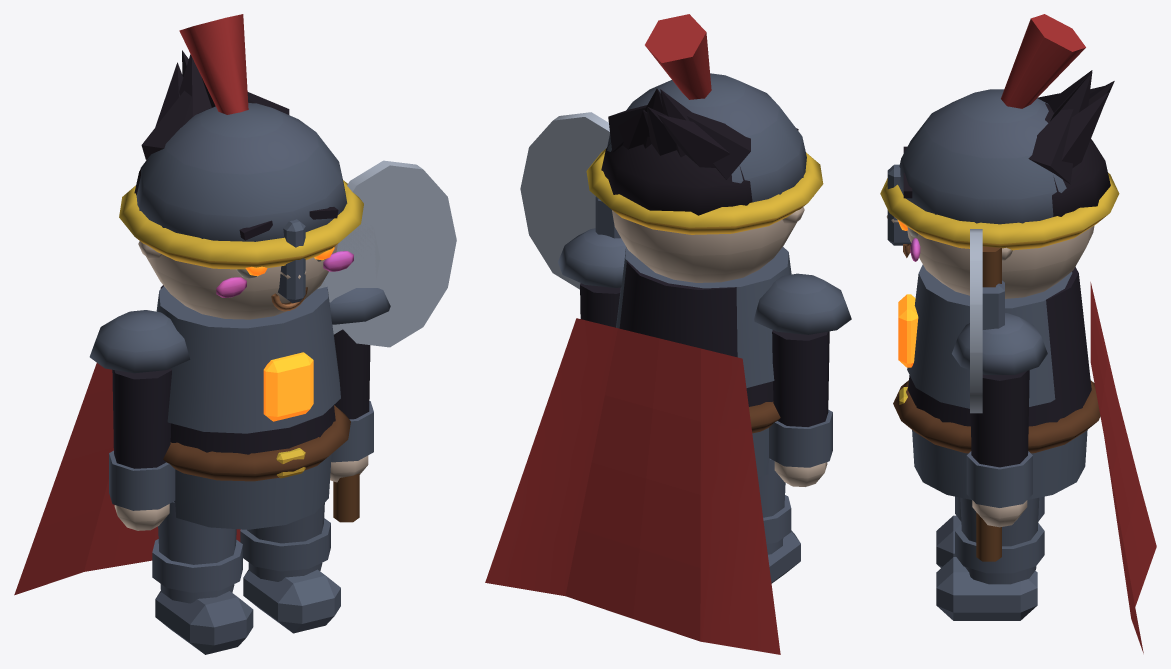
Rendered from hero_draven.glb.
3 renders of one model, left to right at view 1: azimuth 30°, elevation 25°; view 2: azimuth 150°, elevation 25°; view 3: azimuth 270°, elevation 25°, orthographic. The views are drawn at different scales.
Visible parts, largest first — view 1: body_t0_palette, armr_t0_palette, arml_t0_palette, legl_t0_palette, legr_t0_palette, body_t0_fire; view 2: body_t0_palette, armr_t0_palette, arml_t0_palette, legl_t0_palette; view 3: body_t0_palette, armr_t0_palette, legr_t0_palette, body_t0_fire, legl_t0_palette.
Boxes of the visible parts, bbox=[...] form: body_t0_palette: bbox=[14, 14, 363, 595]; armr_t0_palette: bbox=[317, 160, 456, 522]; arml_t0_palette: bbox=[89, 310, 190, 530]; legl_t0_palette: bbox=[152, 501, 253, 654]; legr_t0_palette: bbox=[240, 503, 340, 633]; body_t0_fire: bbox=[245, 246, 334, 421]; body_t0_palette: bbox=[485, 14, 823, 654]; armr_t0_palette: bbox=[520, 112, 625, 327]; arml_t0_palette: bbox=[754, 273, 851, 486]; legl_t0_palette: bbox=[758, 459, 800, 583]; body_t0_palette: bbox=[880, 14, 1156, 653]; armr_t0_palette: bbox=[952, 229, 1047, 561]; legr_t0_palette: bbox=[936, 497, 1044, 620]; body_t0_fire: bbox=[898, 220, 918, 367]; legl_t0_palette: bbox=[936, 496, 1044, 567].
Size of the model in its own units: 0.369 by 0.5929 by 0.259.
